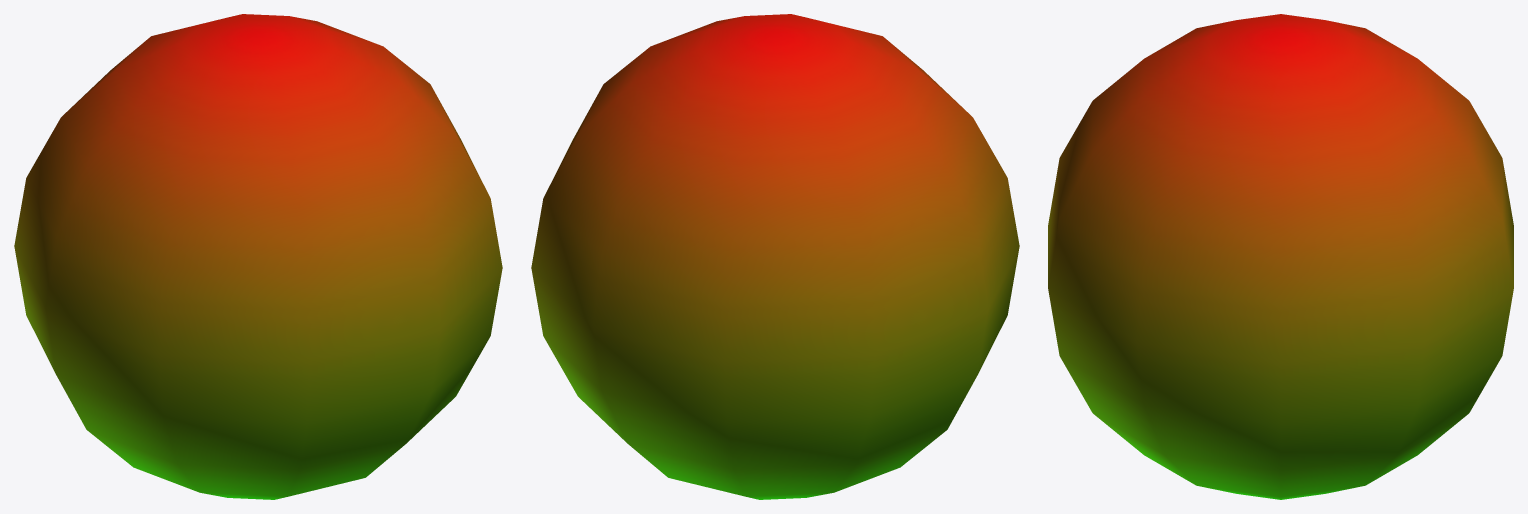
File: asset_1.gltf
3 renders of one model, left to right at view 1: azimuth 30°, elevation 25°; view 2: azimuth 150°, elevation 25°; view 3: azimuth 270°, elevation 25°, orthographic.
Visible parts, largest first — view 1: Sphere; view 2: Sphere; view 3: Sphere.
Boxes of the visible parts, <box> form: Sphere: <box>14,14,502,499</box>; Sphere: <box>531,14,1019,499</box>; Sphere: <box>1048,14,1513,499</box>.
Bounding box in the file's own units: 140 × 140 × 133.
Materials: 1 (1 with a texture image).
